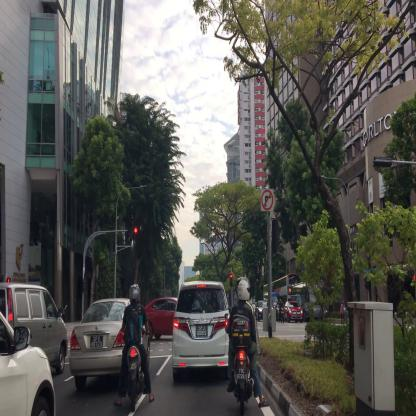red_traffic_light: (127, 226, 138, 234), (230, 274, 233, 286)
